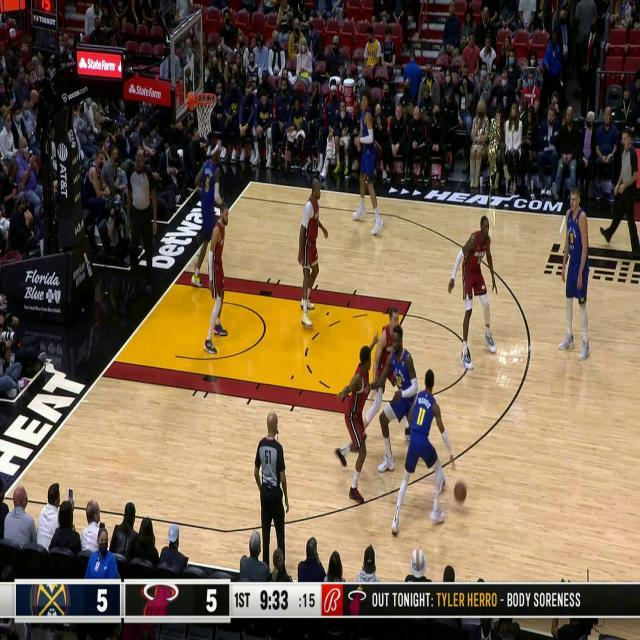rim: (454, 478, 466, 503)
